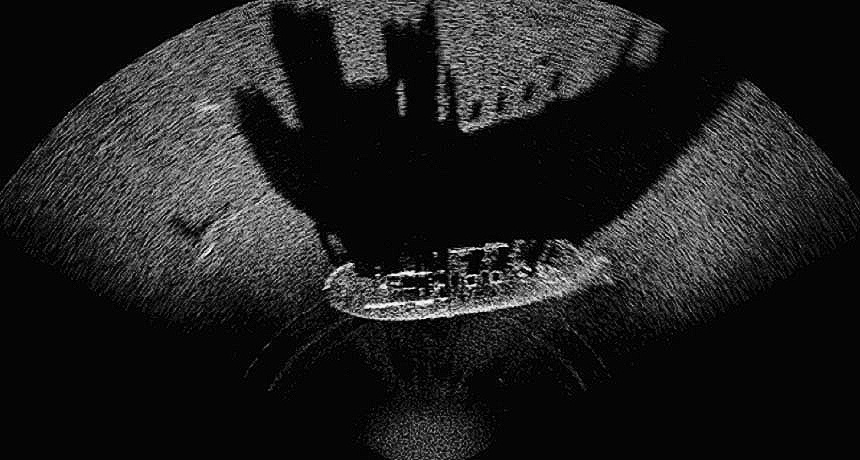ship: (313, 234, 618, 324)
